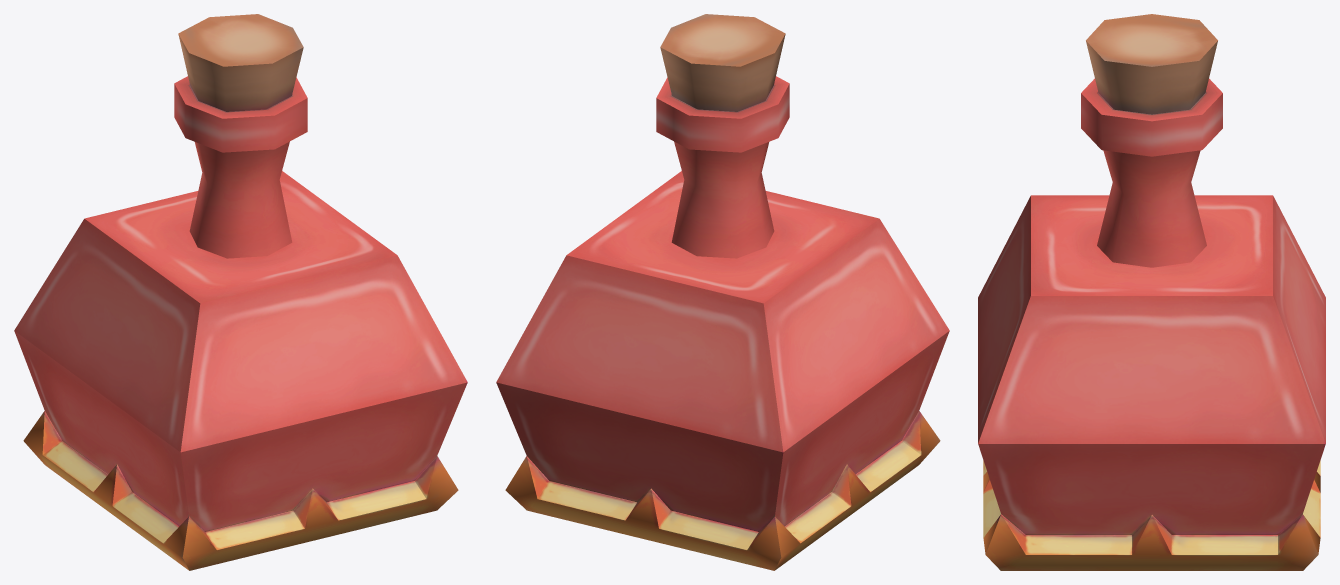
Rendered from potion-1.glb.
3 renders of one model, left to right at view 1: azimuth 30°, elevation 25°; view 2: azimuth 150°, elevation 25°; view 3: azimuth 270°, elevation 25°, orthographic. The views are drawn at different scales.
Visible parts, largest first — view 1: potion_2.001_Plane.007; view 2: potion_2.001_Plane.007; view 3: potion_2.001_Plane.007.
Part boxes in pixels (box(x1,y1,x2,y2)): potion_2.001_Plane.007: box(14, 14, 467, 570); potion_2.001_Plane.007: box(496, 14, 949, 570); potion_2.001_Plane.007: box(978, 14, 1325, 570).
Bounding box in the file's own units: 0.7711 × 1.15 × 0.7742.
1 material, 1 textured.
